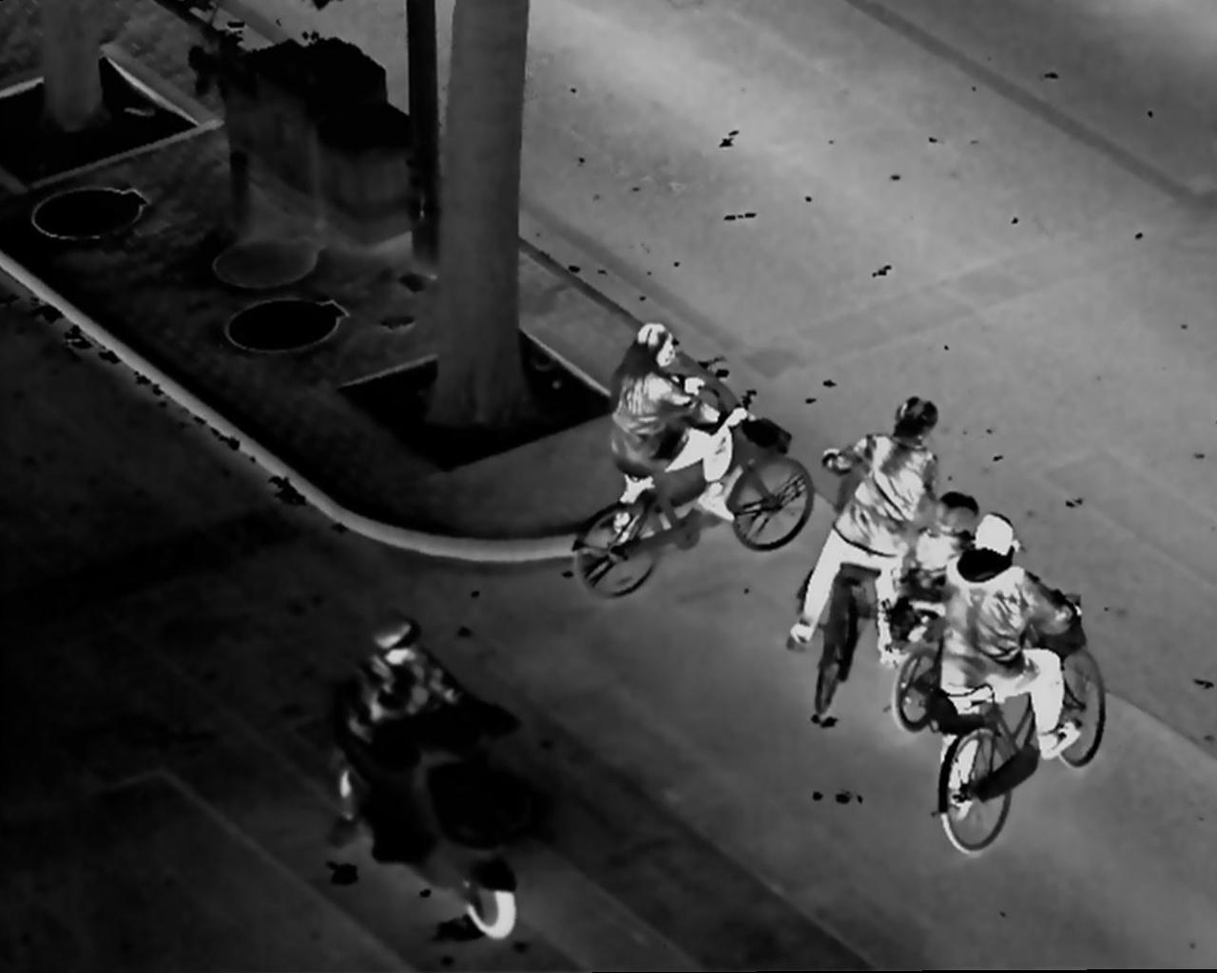person: (787, 397, 945, 665), (945, 513, 1083, 817), (338, 611, 490, 885), (608, 316, 759, 546), (902, 488, 979, 701)
